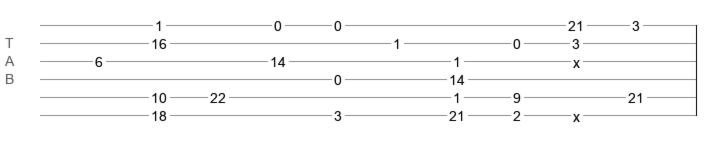0: (274, 18, 282, 28), (334, 18, 342, 28), (334, 72, 342, 82), (513, 36, 521, 46)
1: (155, 18, 163, 28), (393, 36, 401, 46), (453, 54, 461, 64), (453, 90, 461, 100)
10: (151, 90, 167, 100)
14: (270, 54, 286, 64), (449, 72, 465, 82)
16: (151, 36, 167, 46)
18: (151, 108, 167, 118)
2: (513, 108, 521, 118)
21: (449, 108, 465, 118), (568, 18, 584, 28), (628, 90, 644, 100)
22: (210, 90, 226, 100)
3: (334, 108, 342, 118), (572, 36, 580, 46), (632, 18, 640, 28)
6: (95, 54, 103, 64)
9: (513, 90, 521, 100)
x: (573, 109, 580, 117), (573, 55, 580, 63)
